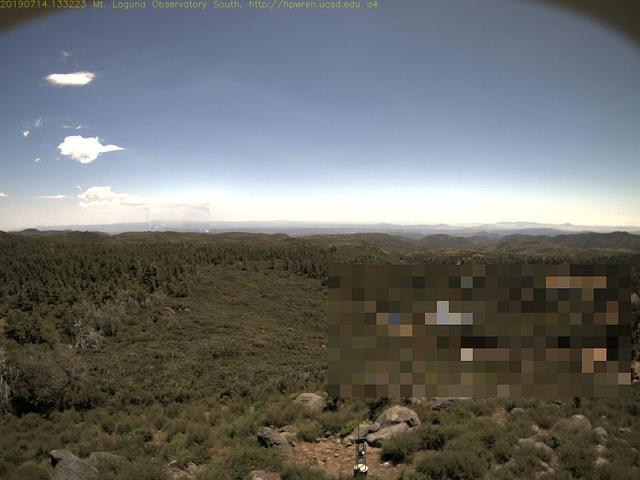smoke: (151, 204, 212, 232)
